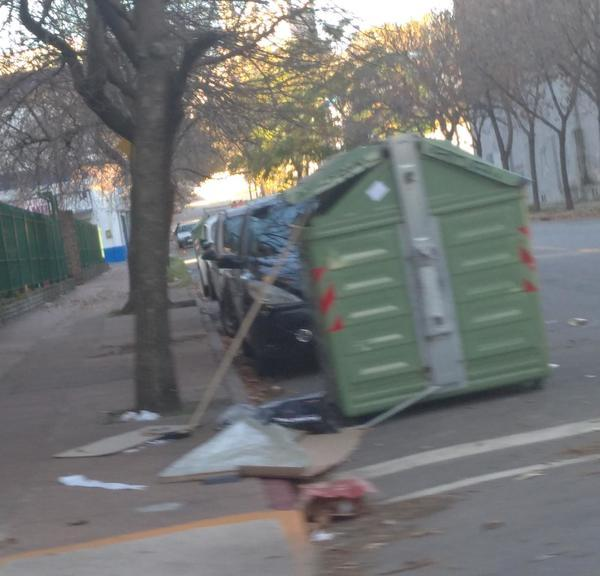Dechets: (183, 205, 311, 426), (172, 420, 360, 503), (299, 477, 375, 541), (228, 393, 340, 434), (78, 412, 168, 458), (120, 410, 192, 443), (57, 474, 145, 492)
Trash: (282, 133, 548, 417)
